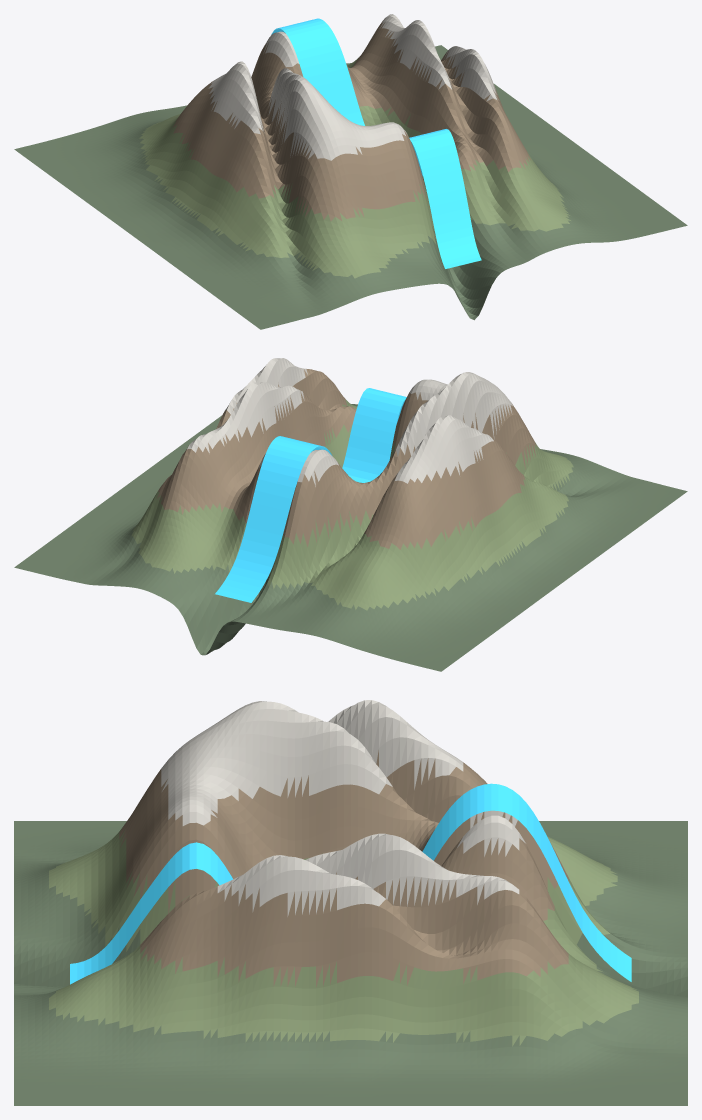
The model's file is source.gltf.
3 renders of one model, top to bottom at view 1: azimuth 30°, elevation 25°; view 2: azimuth 150°, elevation 25°; view 3: azimuth 270°, elevation 25°, orthographic. The views are drawn at different scales.
Parts seen in each view (by area): view 1: Eroded mountain watershed; view 2: Eroded mountain watershed; view 3: Eroded mountain watershed.
Part boxes in pixels (x1,y1,x2,y2): Eroded mountain watershed: (14,14,687,329); Eroded mountain watershed: (14,358,687,671); Eroded mountain watershed: (14,700,687,1105).
Bounding box in the file's own units: 12 × 5.24 × 12.
